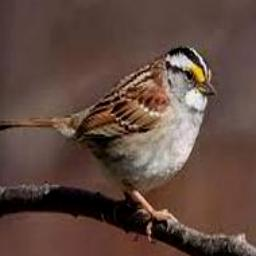Sparrow: (0, 46, 217, 243)
